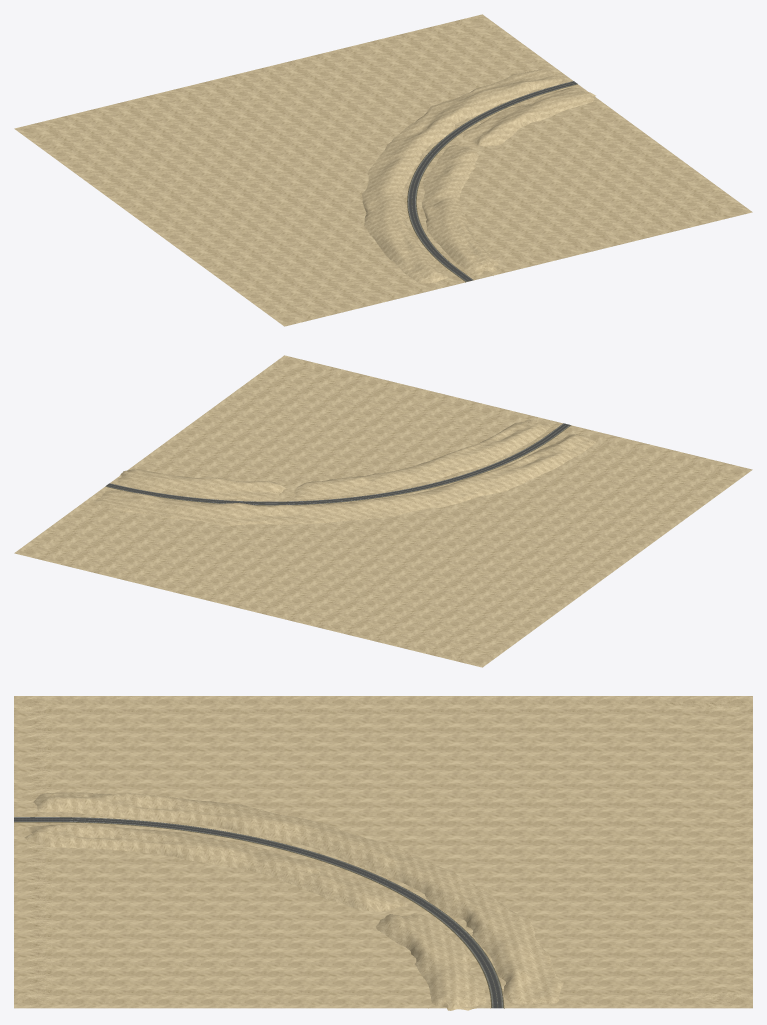
Rendered from block_highway_turn_out.fbx.
3 renders of one model, top to bottom at view 1: azimuth 30°, elevation 25°; view 2: azimuth 150°, elevation 25°; view 3: azimuth 270°, elevation 25°, orthographic. The views are drawn at different scales.
Parts seen in each view (by area): view 1: block_highway_turn_out; view 2: block_highway_turn_out; view 3: block_highway_turn_out.
Boxes of the visible parts, x1,y1,x2,y2 form: block_highway_turn_out: (14,14,752,326); block_highway_turn_out: (14,355,752,667); block_highway_turn_out: (14,696,752,1010).
Bounding box in the file's own units: 2513 × 50.11 × 2500.
